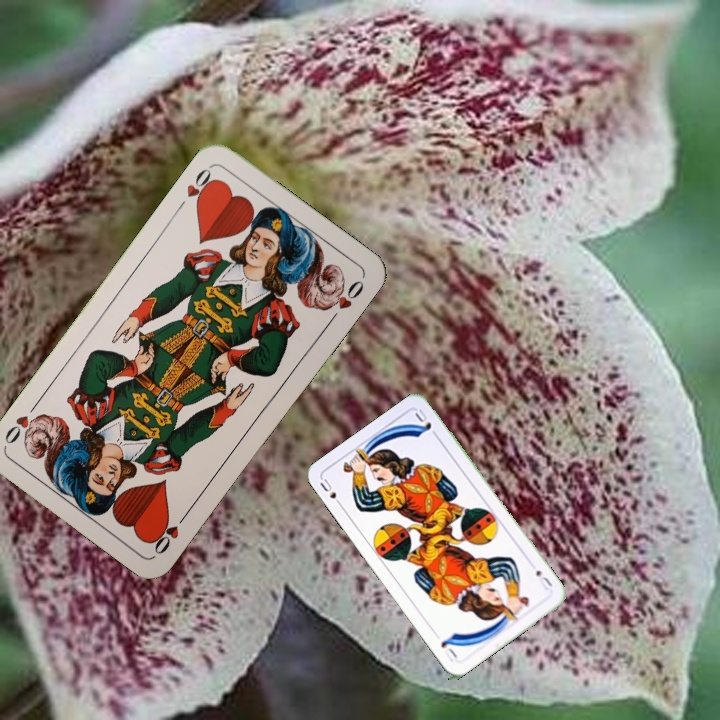HO: (173, 163, 219, 213), (149, 506, 192, 558)
SU: (316, 474, 346, 511), (532, 566, 555, 593)
